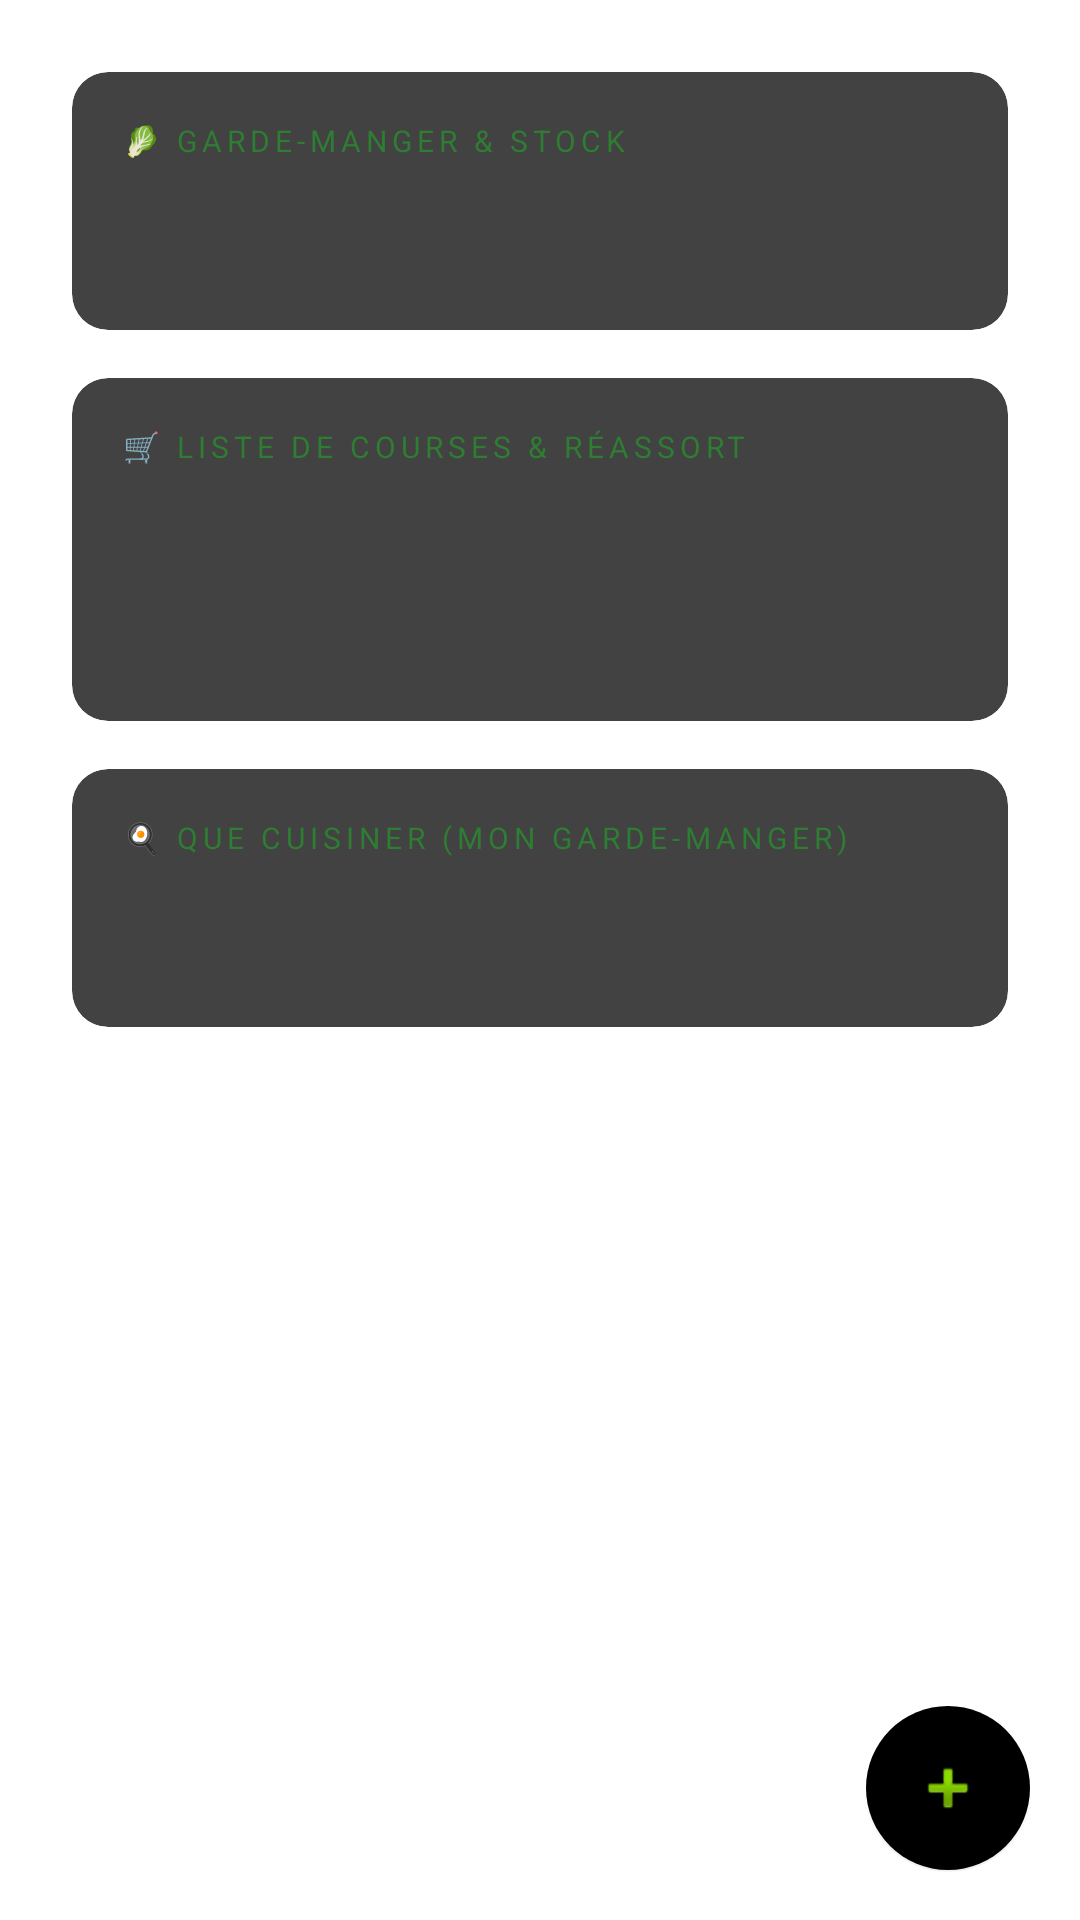

Named icons in this screenshot (1080 × 1920) and their bounding boxes, (x1, y1, x2, y2):
Ajouter un ingrédient: (866, 1706, 1030, 1870)
